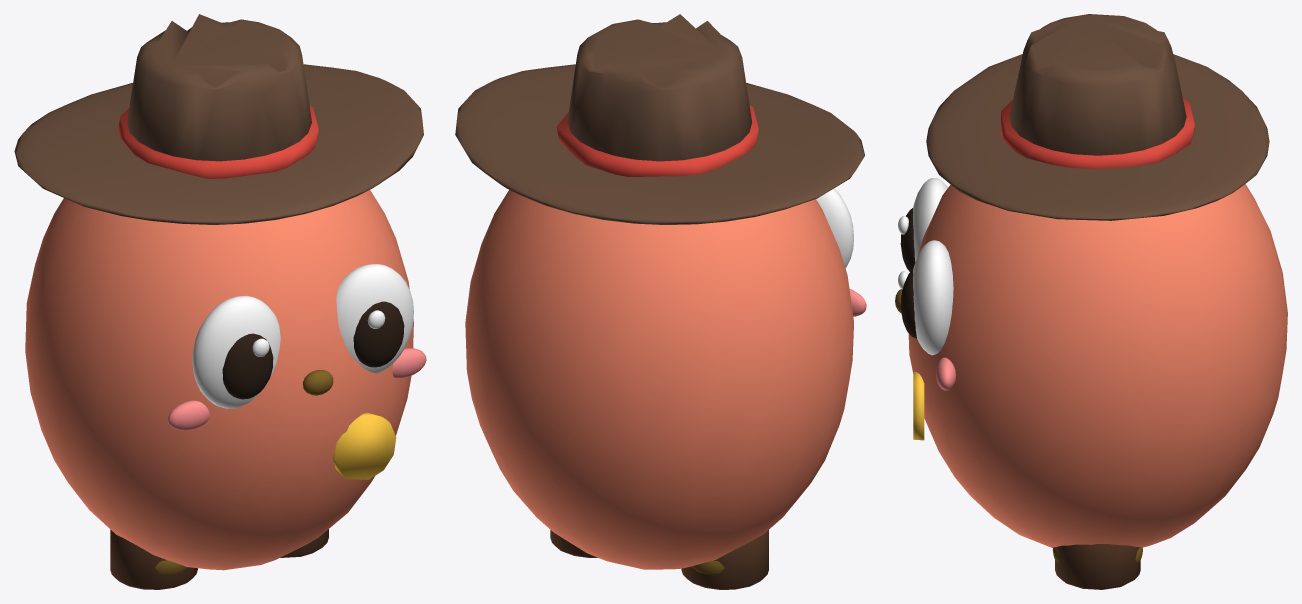
The model's file is SheriffShrimpo.fbx.
The picture shows the model from 3 angles, left to right: view 1: azimuth 30°, elevation 25°; view 2: azimuth 150°, elevation 25°; view 3: azimuth 270°, elevation 25°; orthographic projection. The views are drawn at different scales.
Parts seen in each view (by area): view 1: Body, Hat, EyeWhite, Ink, HatBand, Gold, Wood, Cheek, Dark; view 2: Body, Hat, HatBand, Wood, EyeWhite; view 3: Body, Hat, EyeWhite, HatBand, Wood, Ink, Gold, Cheek.
Boxes of the visible parts, left/top/right/bottom form: Body: left=25, top=190, right=413, bottom=570; Hat: left=14, top=14, right=423, bottom=224; EyeWhite: left=192, top=264, right=413, bottom=408; Ink: left=222, top=301, right=404, bottom=399; HatBand: left=118, top=106, right=318, bottom=178; Gold: left=333, top=412, right=396, bottom=479; Wood: left=110, top=529, right=328, bottom=589; Cheek: left=168, top=348, right=426, bottom=430; Dark: left=155, top=370, right=333, bottom=574; Body: left=465, top=190, right=853, bottom=569; Hat: left=455, top=14, right=864, bottom=224; HatBand: left=556, top=105, right=758, bottom=176; Wood: left=550, top=530, right=768, bottom=589; EyeWhite: left=816, top=188, right=853, bottom=268; Body: left=908, top=184, right=1287, bottom=547; Hat: left=926, top=14, right=1269, bottom=220; EyeWhite: left=898, top=178, right=953, bottom=355; HatBand: left=1001, top=99, right=1194, bottom=168; Wood: left=1055, top=544, right=1140, bottom=589; Ink: left=900, top=208, right=916, bottom=338; Gold: left=913, top=371, right=924, bottom=440; Cheek: left=936, top=357, right=955, bottom=390.
Size of the model in its own units: 1.93 by 1.82 by 2.59.
